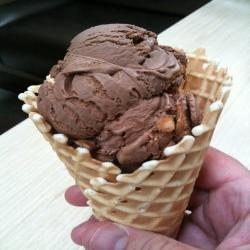icecream: (31, 23, 206, 179)
